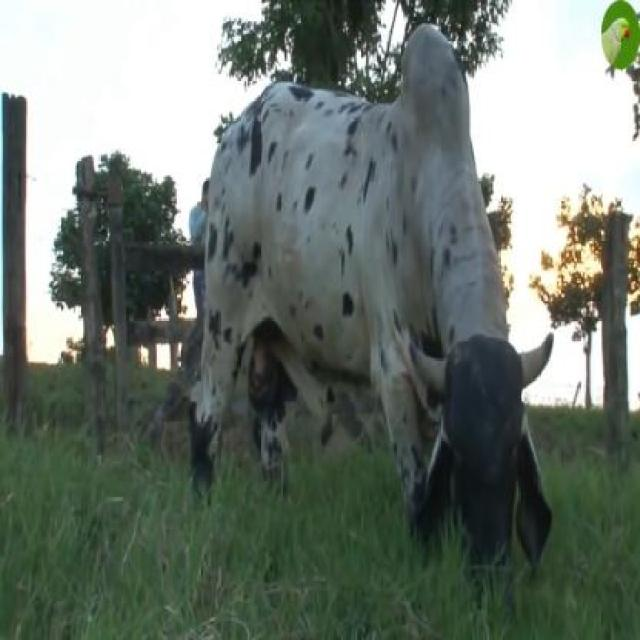Cow: (190, 26, 552, 586)
